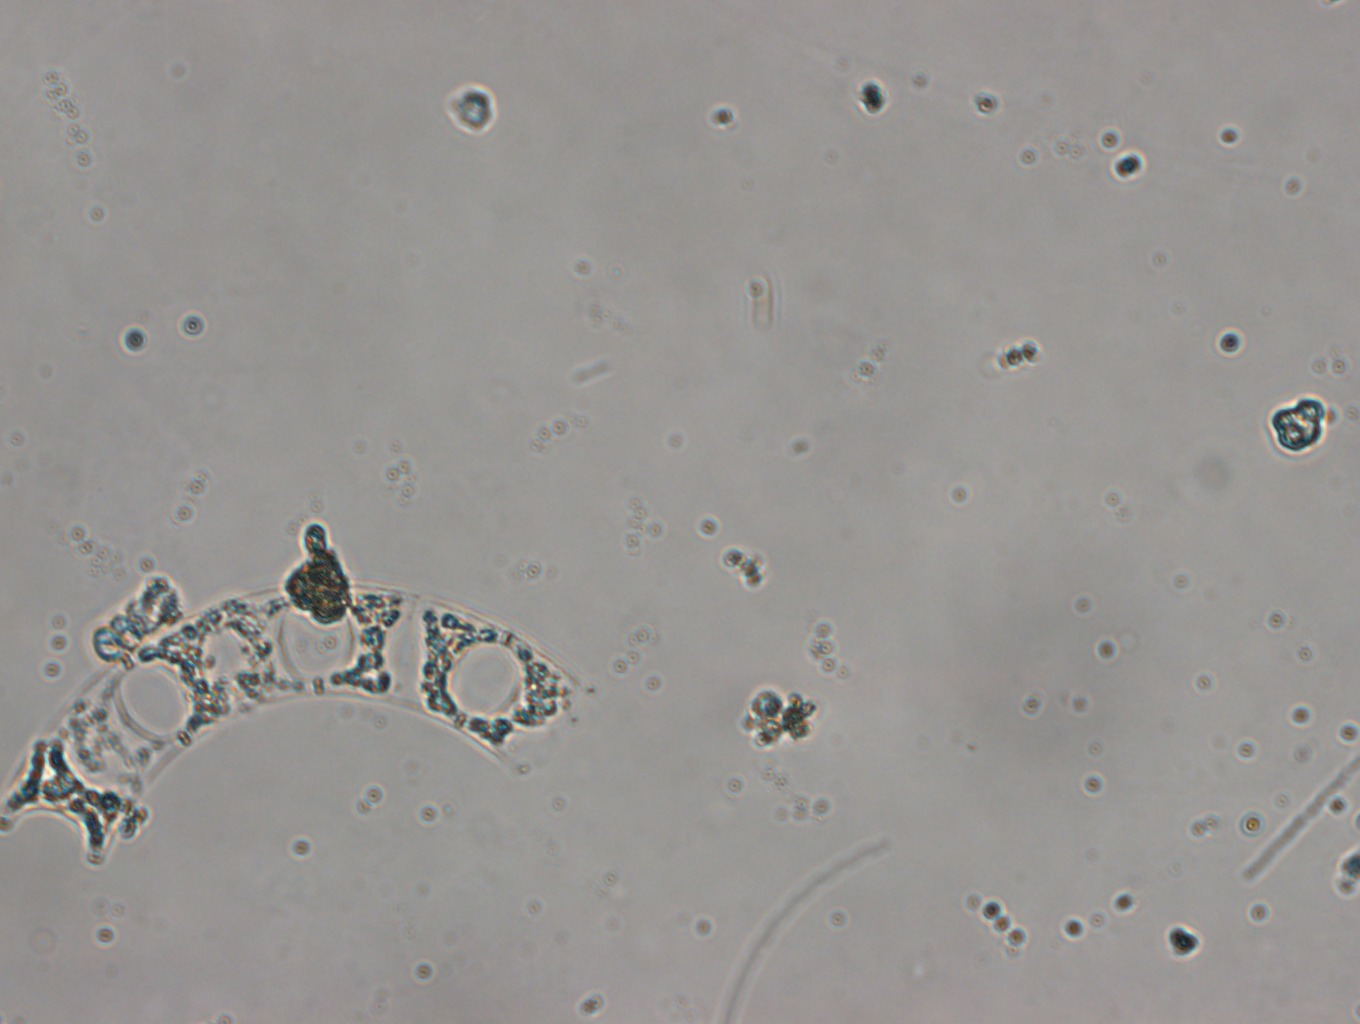eucampia: (1, 584, 579, 865)
